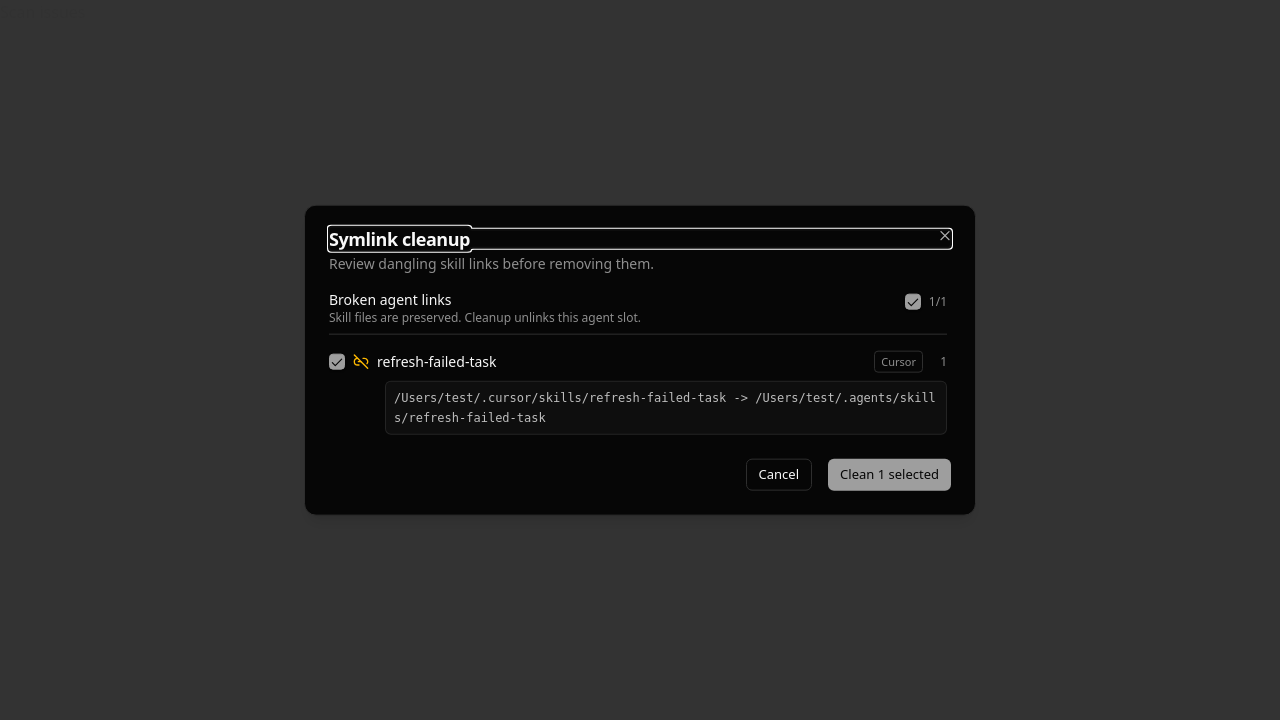
SymlinkCleanupDialog › keeps cleanup success when post-cleanup refresh fails
Click the button "Clean 1 selected".
click(890, 474)  # box x1=828 y1=458 x2=951 y2=490
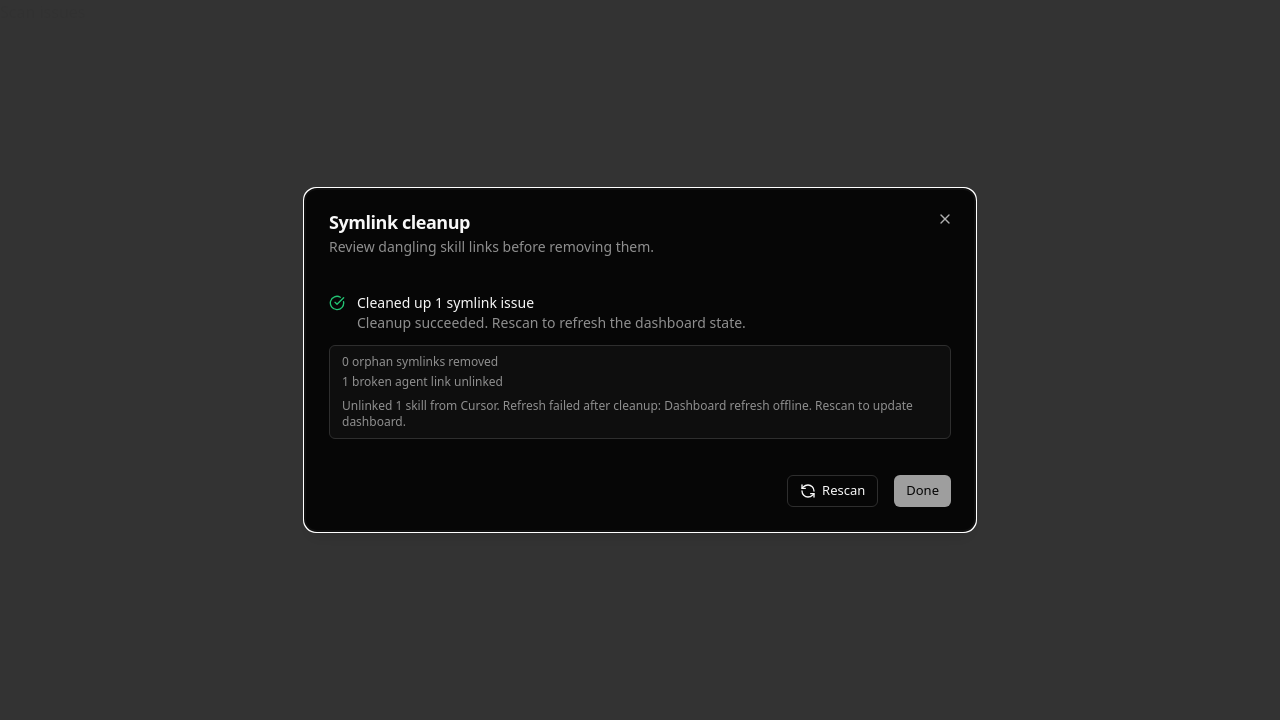
Now the text "Cleaned up 1 symlink issue" is shown, box x1=357 y1=293 x2=534 y2=312
Now the text "Refresh failed after cleanup" is shown, box x1=342 y1=397 x2=913 y2=430
Now the button "Rescan" is shown
Click the button "Rescan".
click(833, 491)  # box x1=787 y1=475 x2=878 y2=507
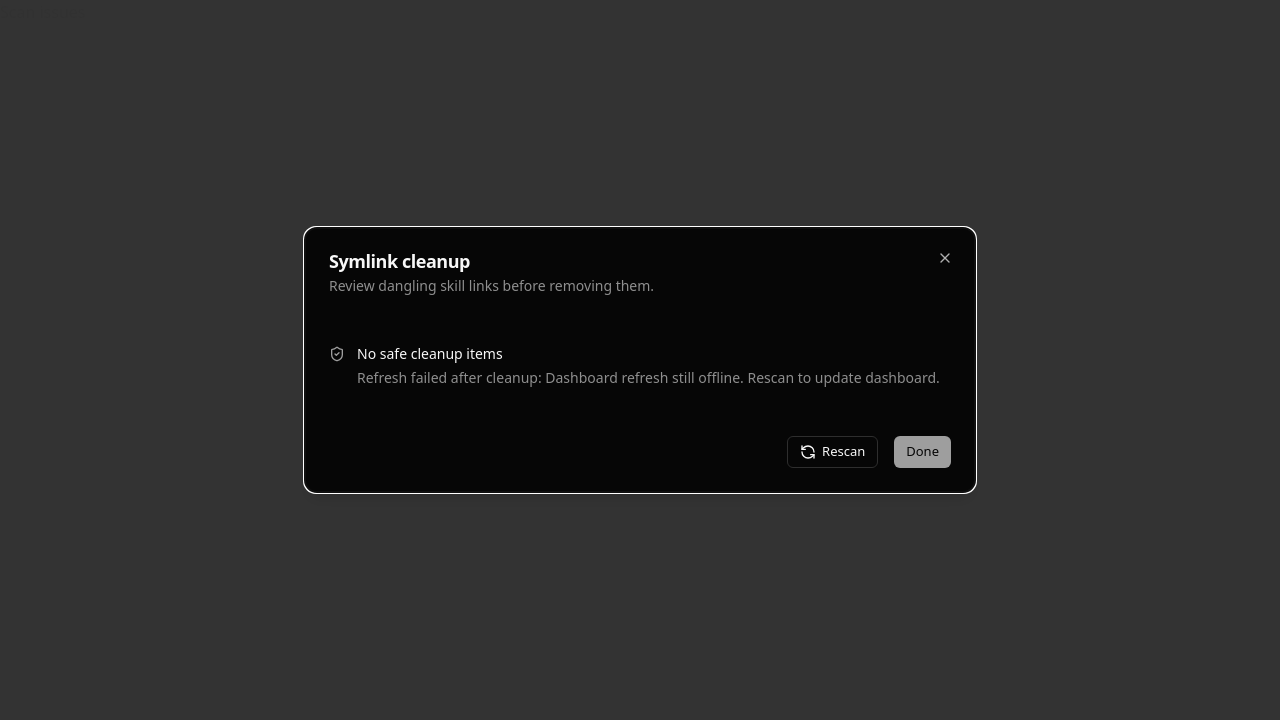
Now the button "Rescan" is shown, box x1=787 y1=436 x2=878 y2=468
Now the text "No safe cleanup items" is shown, box x1=357 y1=344 x2=503 y2=363
Now the text "Dashboard refresh still offline" is shown, box x1=357 y1=368 x2=940 y2=387
